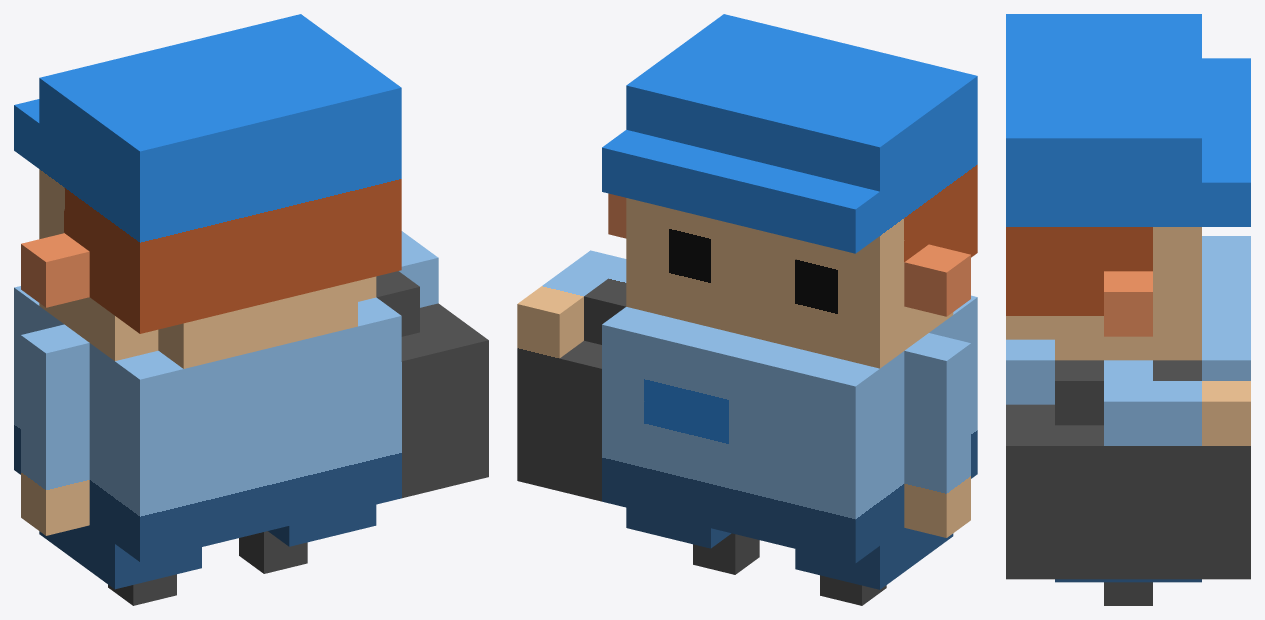
The model's file is chr_mailman.dae.
3 renders of one model, left to right at view 1: azimuth 30°, elevation 25°; view 2: azimuth 150°, elevation 25°; view 3: azimuth 270°, elevation 25°, orthographic. The views are drawn at different scales.
Visible parts, largest first — view 1: chr_mailman; view 2: chr_mailman; view 3: chr_mailman.
Part boxes in pixels (x1=…): chr_mailman: x1=14, y1=14, x2=488, y2=605; chr_mailman: x1=517, y1=14, x2=977, y2=605; chr_mailman: x1=1006, y1=14, x2=1250, y2=605.
Size of the model in its own units: 0.9 by 0.5 by 1.1.
